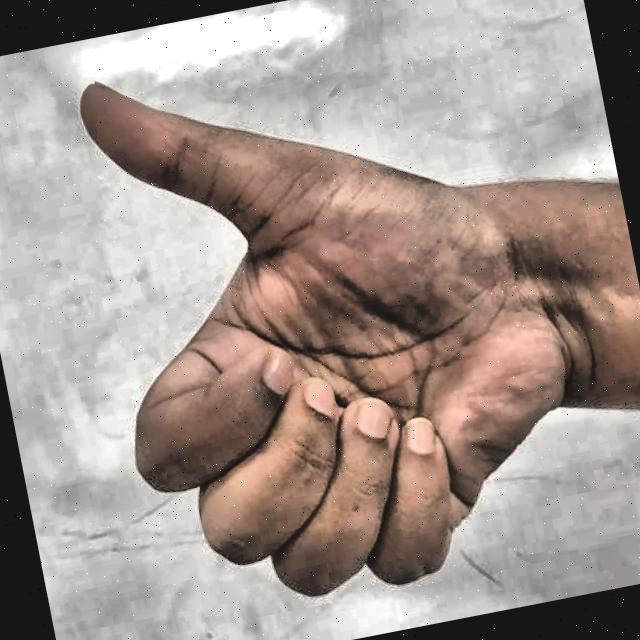Do: (22, 1, 609, 640)
